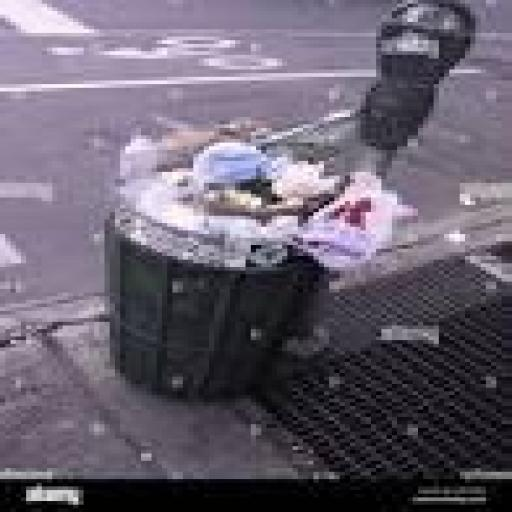poubelle_pleine: (82, 99, 412, 412)
